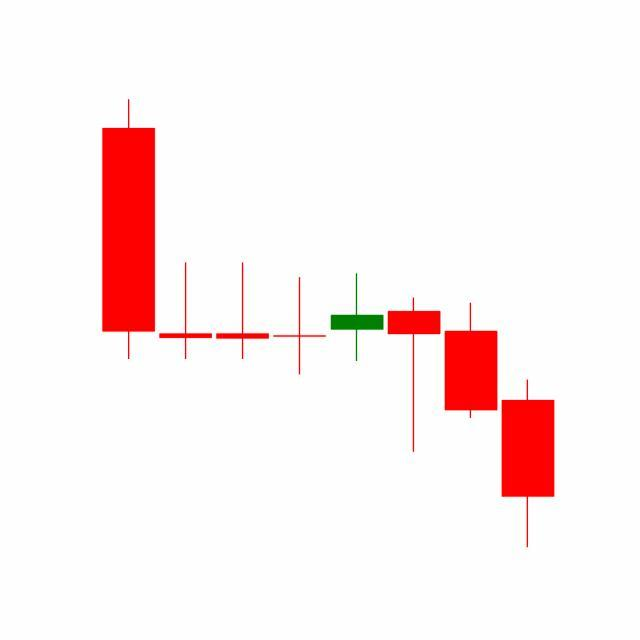Hikkake Pattern: (270, 270, 555, 549)
